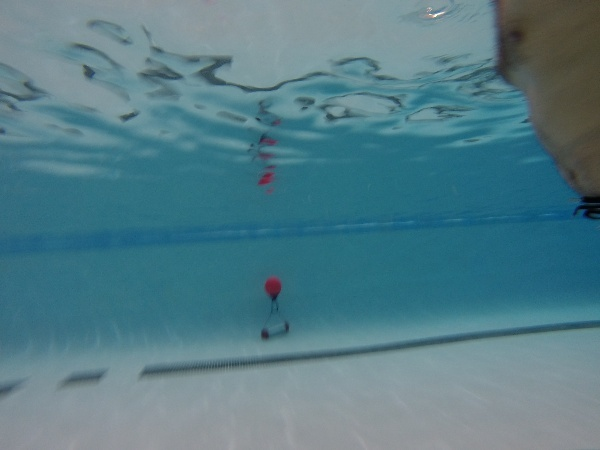buoy_red: (262, 274, 283, 304)
